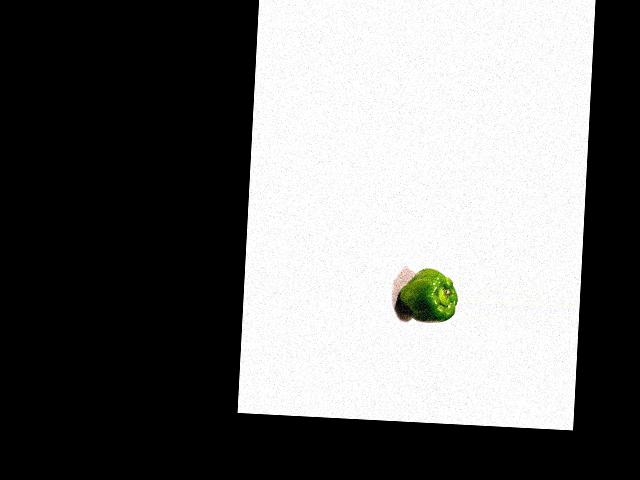bell_pepper: (394, 264, 458, 325)
